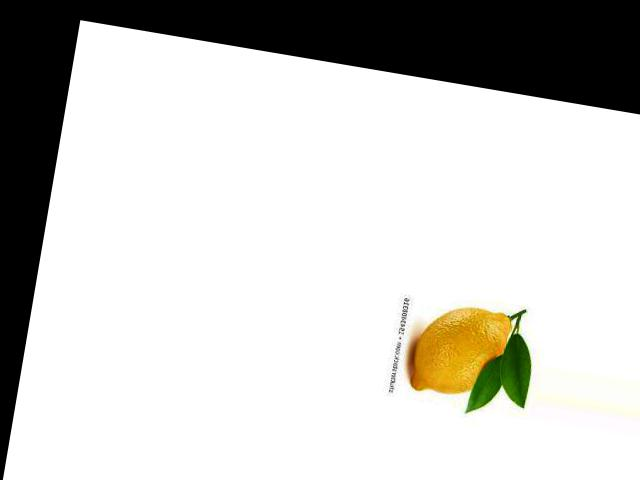lemon: (405, 295, 519, 413)
